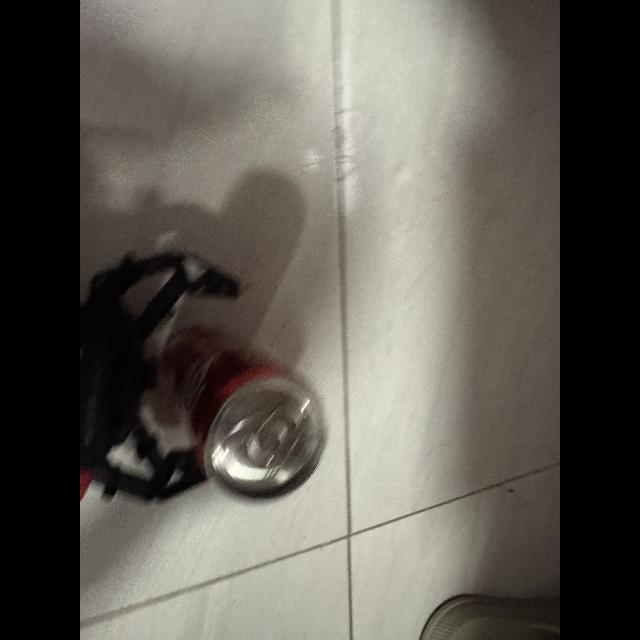Cola: (154, 312, 332, 510)
